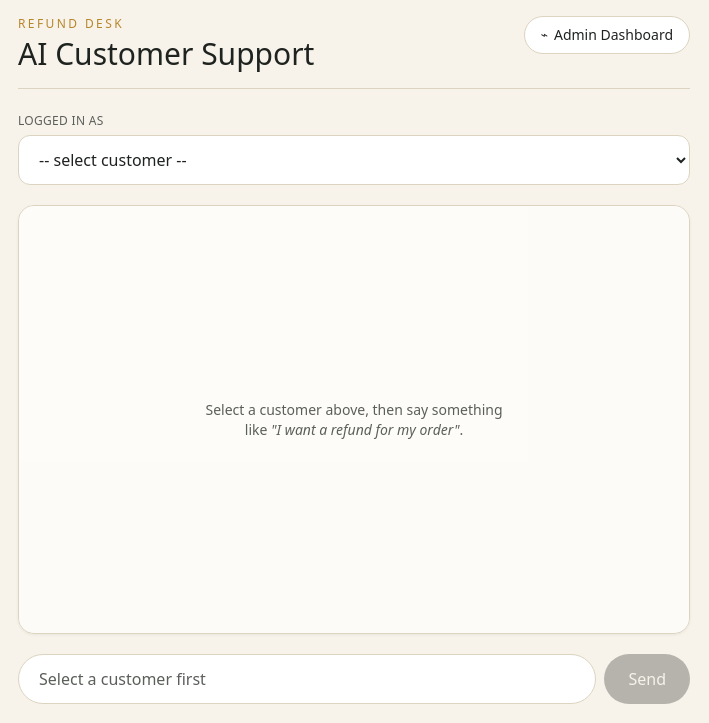
Scenario: ChatPage › sends a message once a customer is selected and renders the agent's reply
The image size is (709, 723).
Select "Rohan Verma — Running Shoes - Size 9 (ORD-1002)" in the dropdown at {"x": 354, "y": 160}, box [18, 135, 690, 185]
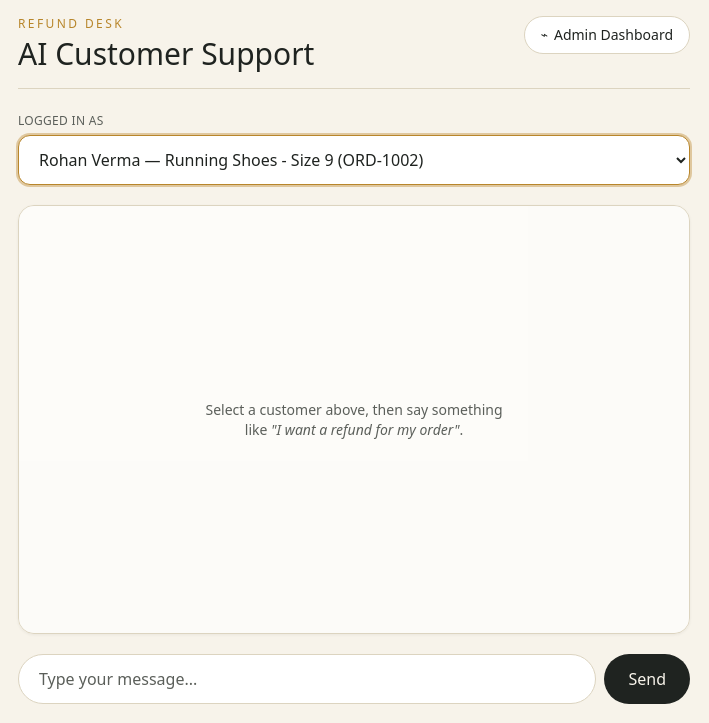
Type "I want a refund" into the field with placeholder "Type your message..." at {"x": 307, "y": 679}, box [18, 654, 596, 704]
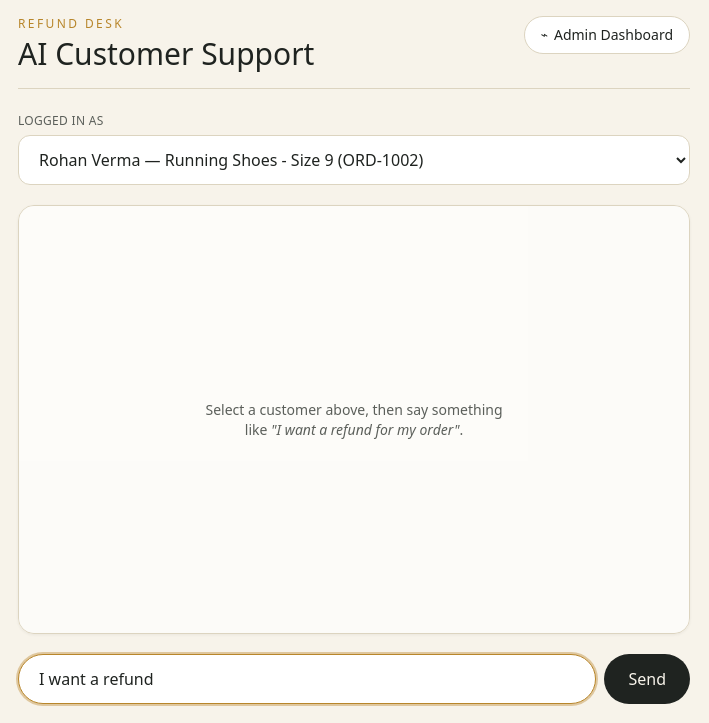
Click the button "Send" at {"x": 647, "y": 679}, box [604, 654, 690, 704]
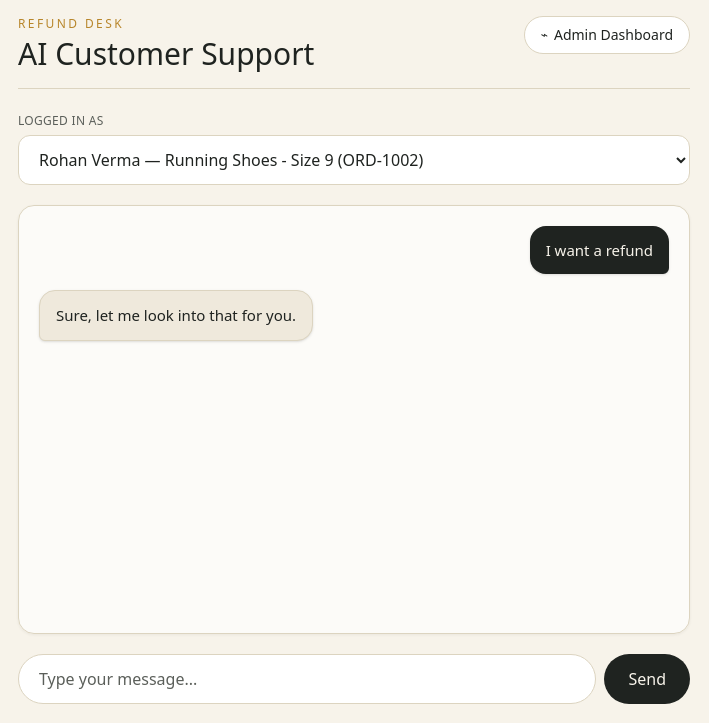
Expected: the text "I want a refund" is shown, [530, 226, 669, 274]
Now the text "Sure, let me look into that for you." is shown, box [39, 290, 313, 341]
